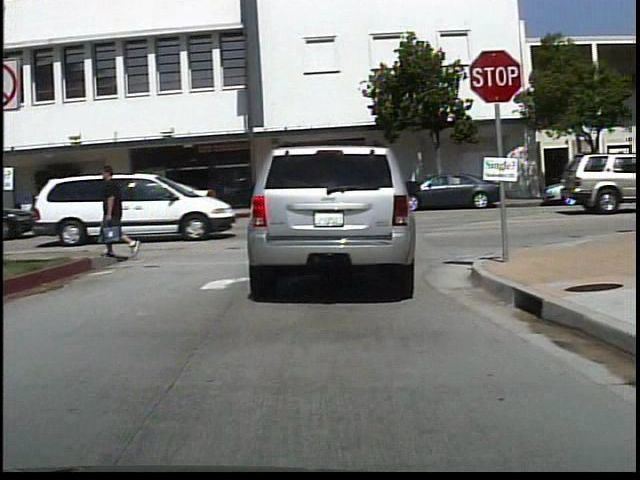person: (91, 163, 148, 262), (66, 176, 90, 224), (37, 174, 60, 219)
